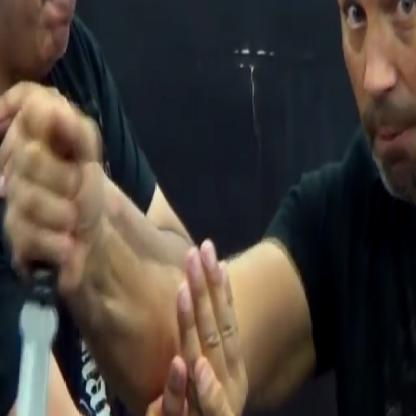knife: (0, 83, 89, 415)
